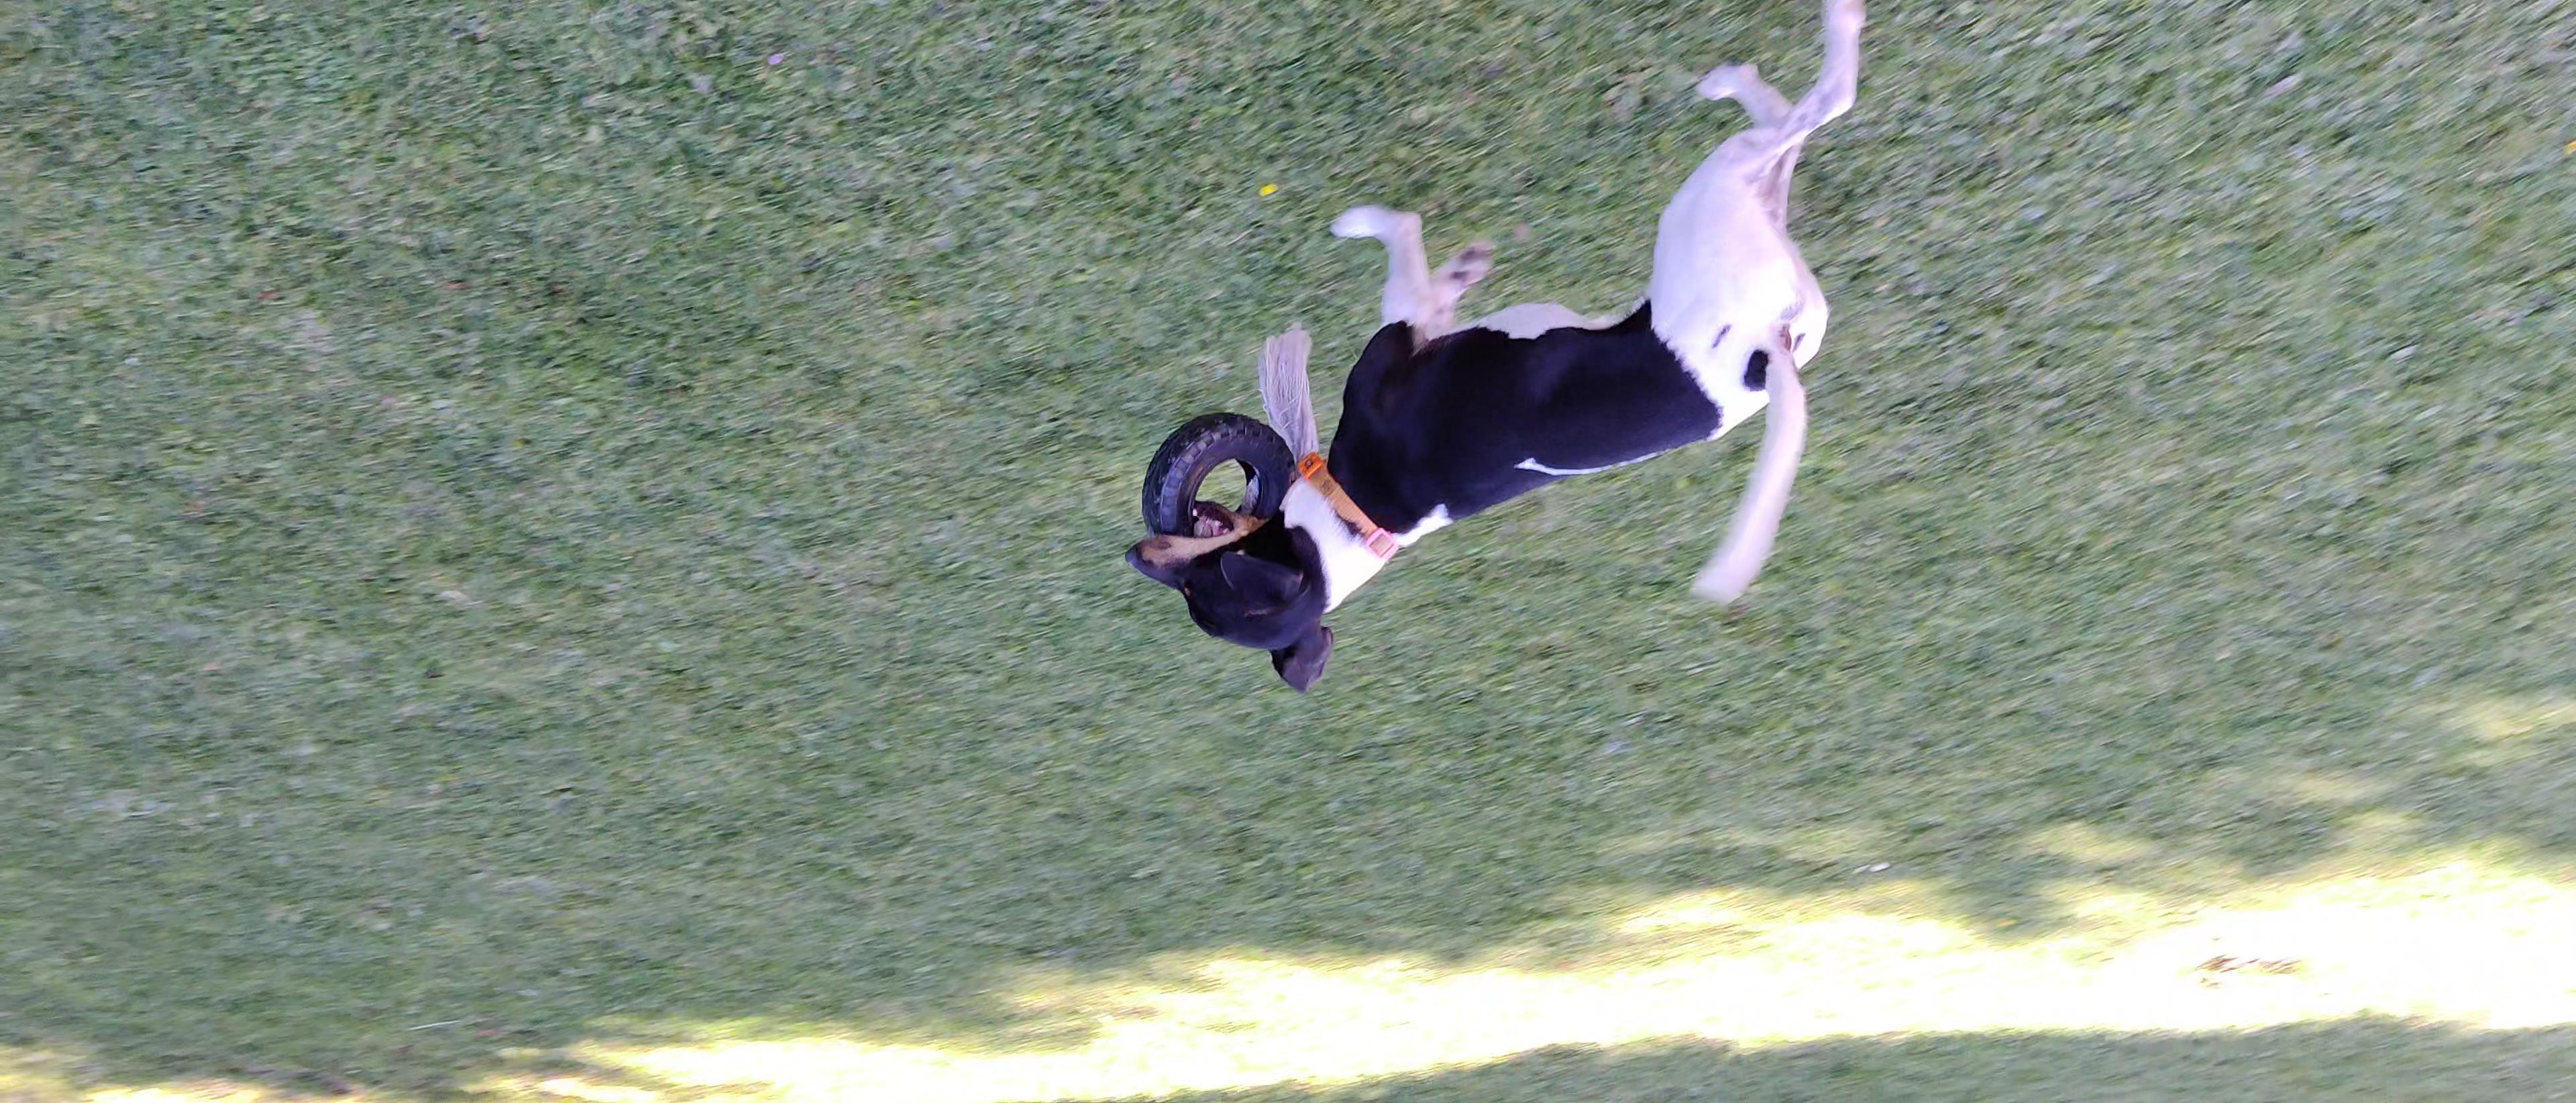Dog: (1106, 0, 1894, 704)
